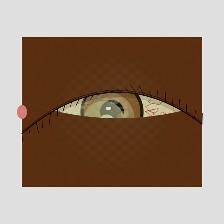corneal_ulcer: (72, 93, 136, 145)
